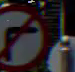Don't turn right: (0, 5, 49, 71)
